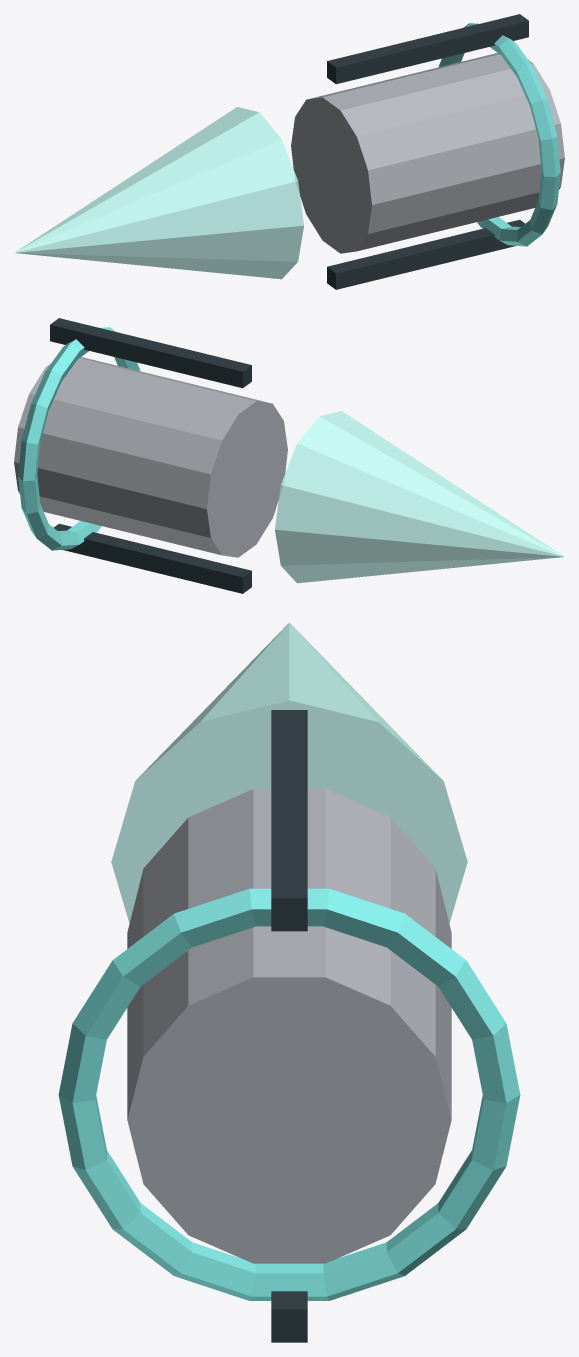
The model's file is 06_skyship_engine.glb.
3 renders of one model, top to bottom at view 1: azimuth 30°, elevation 25°; view 2: azimuth 150°, elevation 25°; view 3: azimuth 270°, elevation 25°, orthographic. The views are drawn at different scales.
Parts seen in each view (by area): view 1: engine_core, thruster_plume, engine_ring, mount_strut_r, mount_strut_l; view 2: engine_core, thruster_plume, engine_ring, mount_strut_r, mount_strut_l; view 3: engine_core, engine_ring, thruster_plume, mount_strut_r, mount_strut_l.
Part boxes in pixels (x1,y1,x2,y2): engine_core: (291,53,564,253); thruster_plume: (14,107,303,279); engine_ring: (438,23,560,246); mount_strut_r: (327,14,528,84); mount_strut_l: (327,219,524,289); engine_core: (14,357,287,557); thruster_plume: (275,411,564,583); engine_ring: (18,327,140,550); mount_strut_r: (50,318,251,388); mount_strut_l: (54,523,251,593); engine_core: (127,789,451,1263); engine_ring: (58,888,520,1300); thruster_plume: (111,622,467,923); mount_strut_r: (271,710,307,931); mount_strut_l: (271,1291,307,1342).
Size of the model in its own units: 2.18 by 0.9075 by 0.855.
